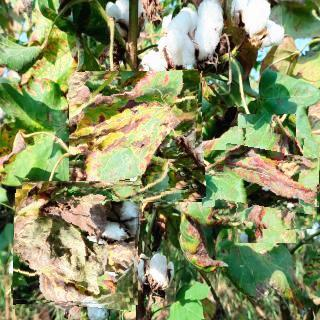blight: (69, 71, 204, 205), (13, 181, 141, 309), (217, 128, 317, 229)
